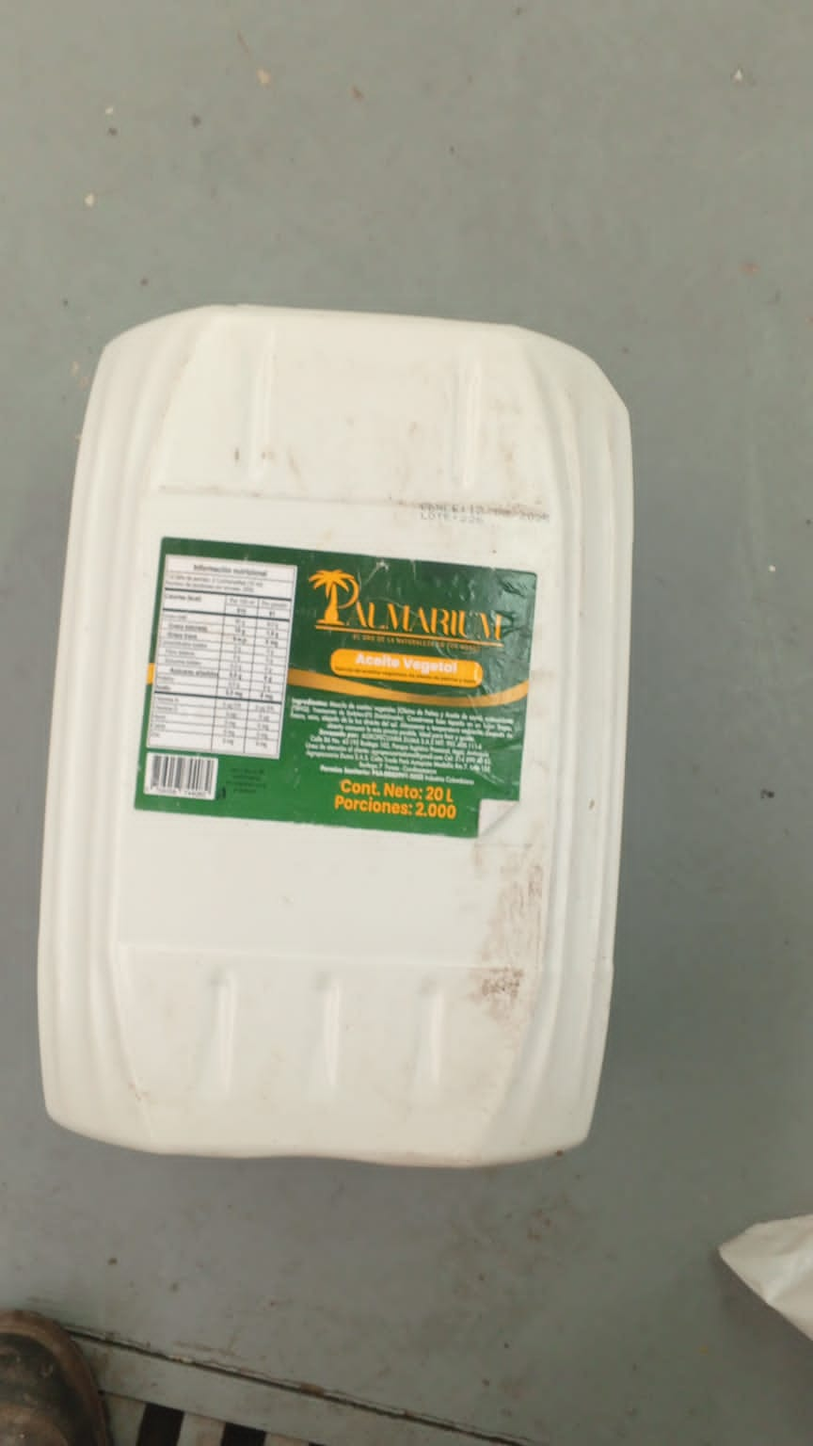Plastico: (32, 300, 633, 1172)
